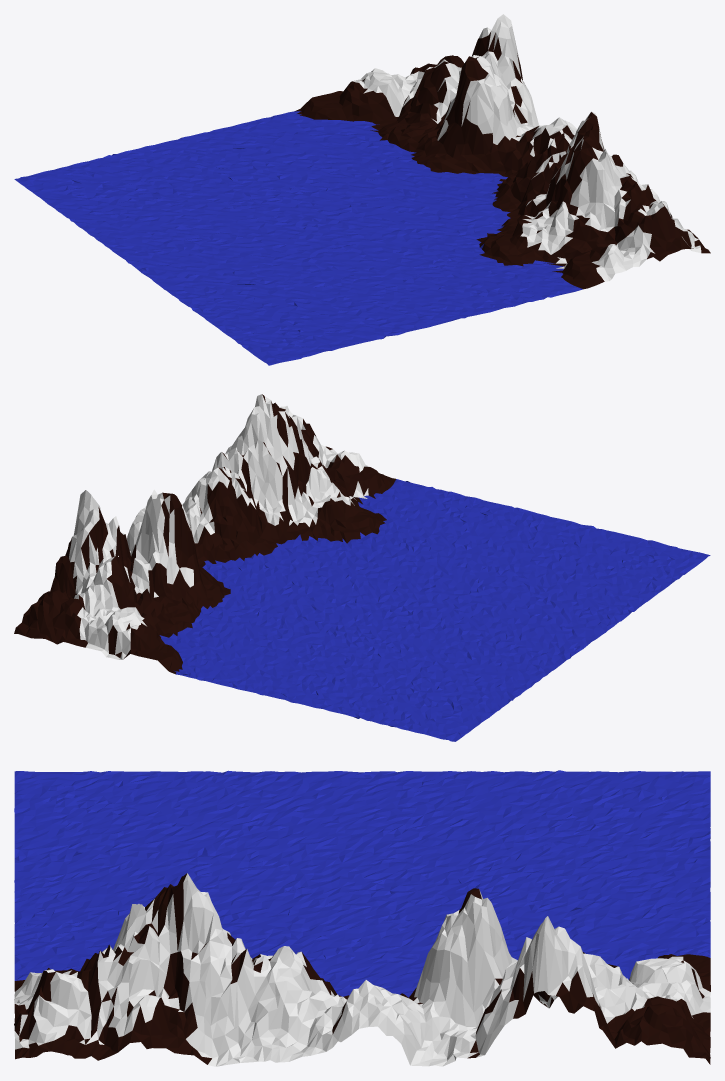
3 views of the same model, one above another, from view 1: azimuth 30°, elevation 25°; view 2: azimuth 150°, elevation 25°; view 3: azimuth 270°, elevation 25° (orthographic). The views are drawn at different scales.
Parts seen in each view (by area): view 1: 2; view 2: 2; view 3: 2.
Part boxes in pixels (left/top/right/bottom): 2: left=14, top=14, right=710, bottom=365; 2: left=14, top=394, right=710, bottom=741; 2: left=14, top=770, right=710, bottom=1066.
Bounding box in the file's own units: 50116 × 12436 × 50080.
